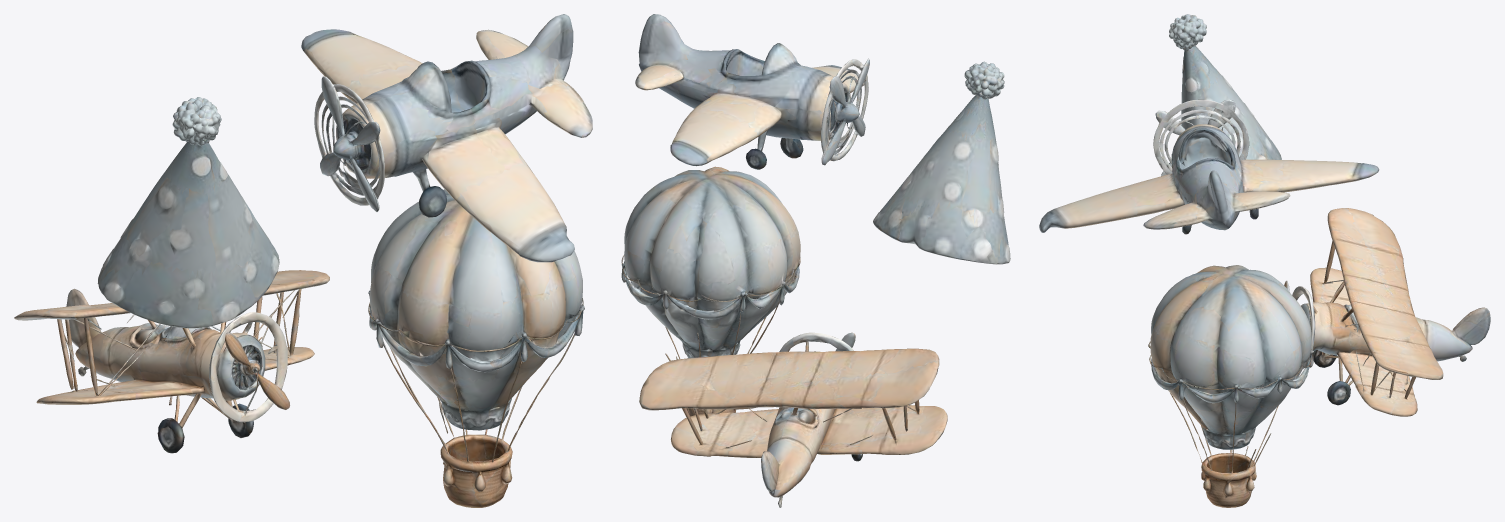
3 views of the same model, side by side, from view 1: azimuth 30°, elevation 25°; view 2: azimuth 150°, elevation 25°; view 3: azimuth 270°, elevation 25° (orthographic). The views are drawn at different scales.
Parts seen in each view (by area): view 1: Mesh 3, Mesh 4, Mesh 1, Mesh 2; view 2: Mesh 2, Mesh 4, Mesh 3, Mesh 1; view 3: Mesh 4, Mesh 2, Mesh 3, Mesh 1.
Boxes of the visible parts, box(x1,y1,x2,y2) form: Mesh 3: box(301, 14, 592, 262); Mesh 4: box(368, 189, 584, 507); Mesh 1: box(97, 97, 279, 328); Mesh 2: box(14, 270, 329, 453); Mesh 2: box(639, 332, 947, 507); Mesh 4: box(621, 166, 800, 416); Mesh 3: box(635, 14, 869, 169); Mesh 1: box(873, 61, 1010, 264); Mesh 4: box(1148, 265, 1313, 507); Mesh 2: box(1284, 208, 1490, 416); Mesh 3: box(1039, 99, 1379, 234); Mesh 1: box(1169, 14, 1281, 159).
Size of the model in its own units: 1.71 by 1.73 by 1.9.
4 materials, 4 textured.
